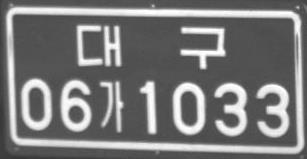0: (172, 81, 206, 135), (20, 76, 52, 131)
1: (134, 79, 167, 134)
3: (214, 81, 247, 137), (256, 83, 290, 137)
6: (59, 78, 92, 133)
가: (97, 80, 124, 133)
대구_D: (76, 24, 225, 69)
